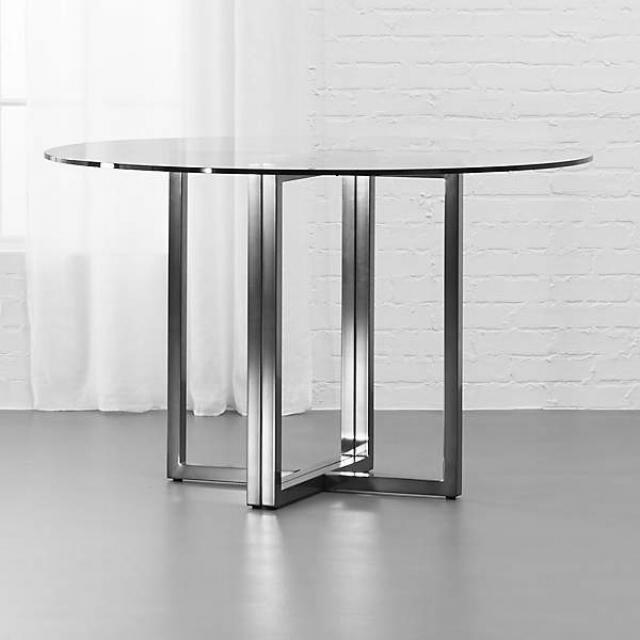table: (43, 126, 593, 507)
